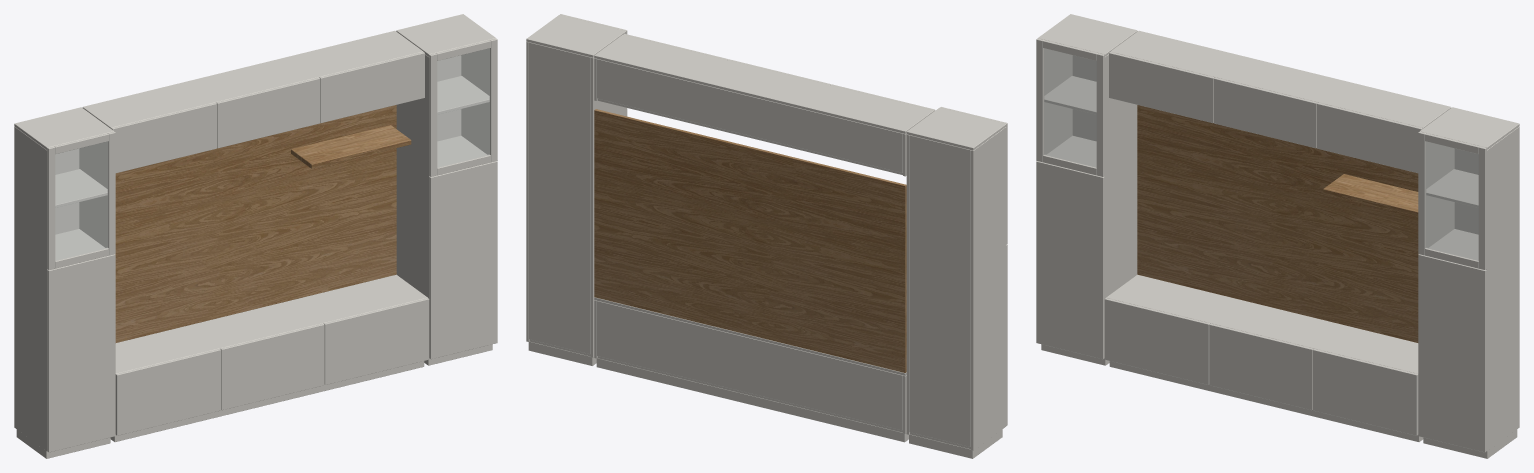
Rendered from composicion_salon_300.glb.
3 renders of one model, left to right at view 1: azimuth 30°, elevation 25°; view 2: azimuth 150°, elevation 25°; view 3: azimuth 330°, elevation 25°, orthographic.
Visible parts, largest first — view 1: composicion_salon_300; view 2: composicion_salon_300; view 3: composicion_salon_300.
Part boxes in pixels (x1,y1,x2,y2): composicion_salon_300: (14,14,497,458); composicion_salon_300: (526,14,1007,458); composicion_salon_300: (1036,14,1519,458).
Bounding box in the file's own units: 3 × 2 × 0.3999.
Materials: 3 (1 with a texture image).
